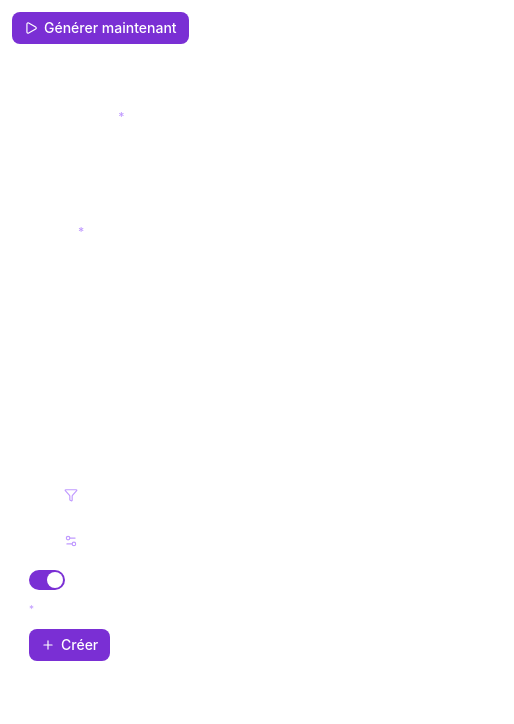
Test case: PressFeedsManager › refuse de créer sans nom
The width and height of the screenshot is (514, 724).
Click the button "Créer".
click(70, 645)  # box x1=29 y1=629 x2=110 y2=661
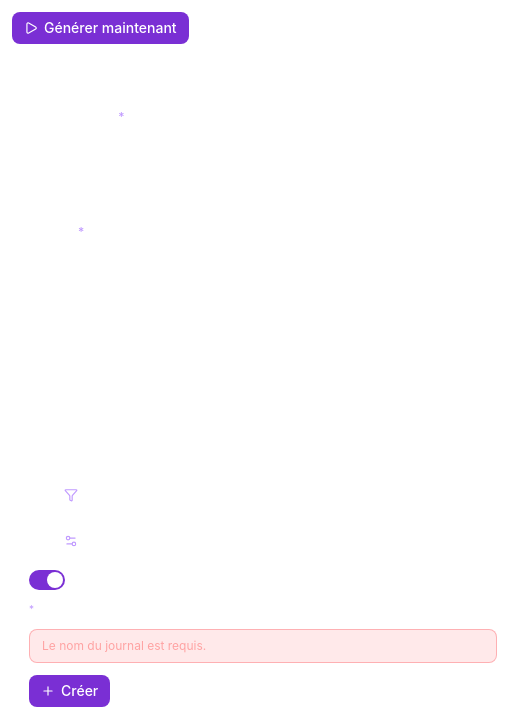
Expected: the text "Le nom du journal est requis." is shown, x1=29 y1=629 x2=497 y2=663
